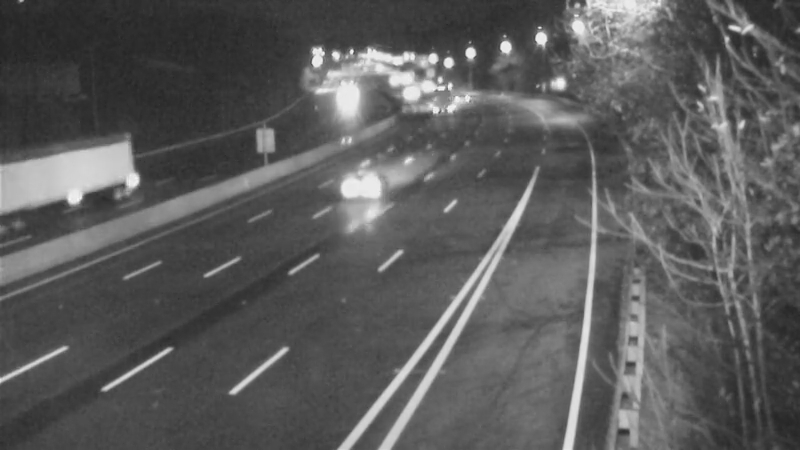vehicle: (315, 153, 395, 233), (20, 149, 100, 229), (436, 73, 486, 123), (385, 69, 435, 119), (413, 73, 463, 123), (314, 74, 364, 124)
